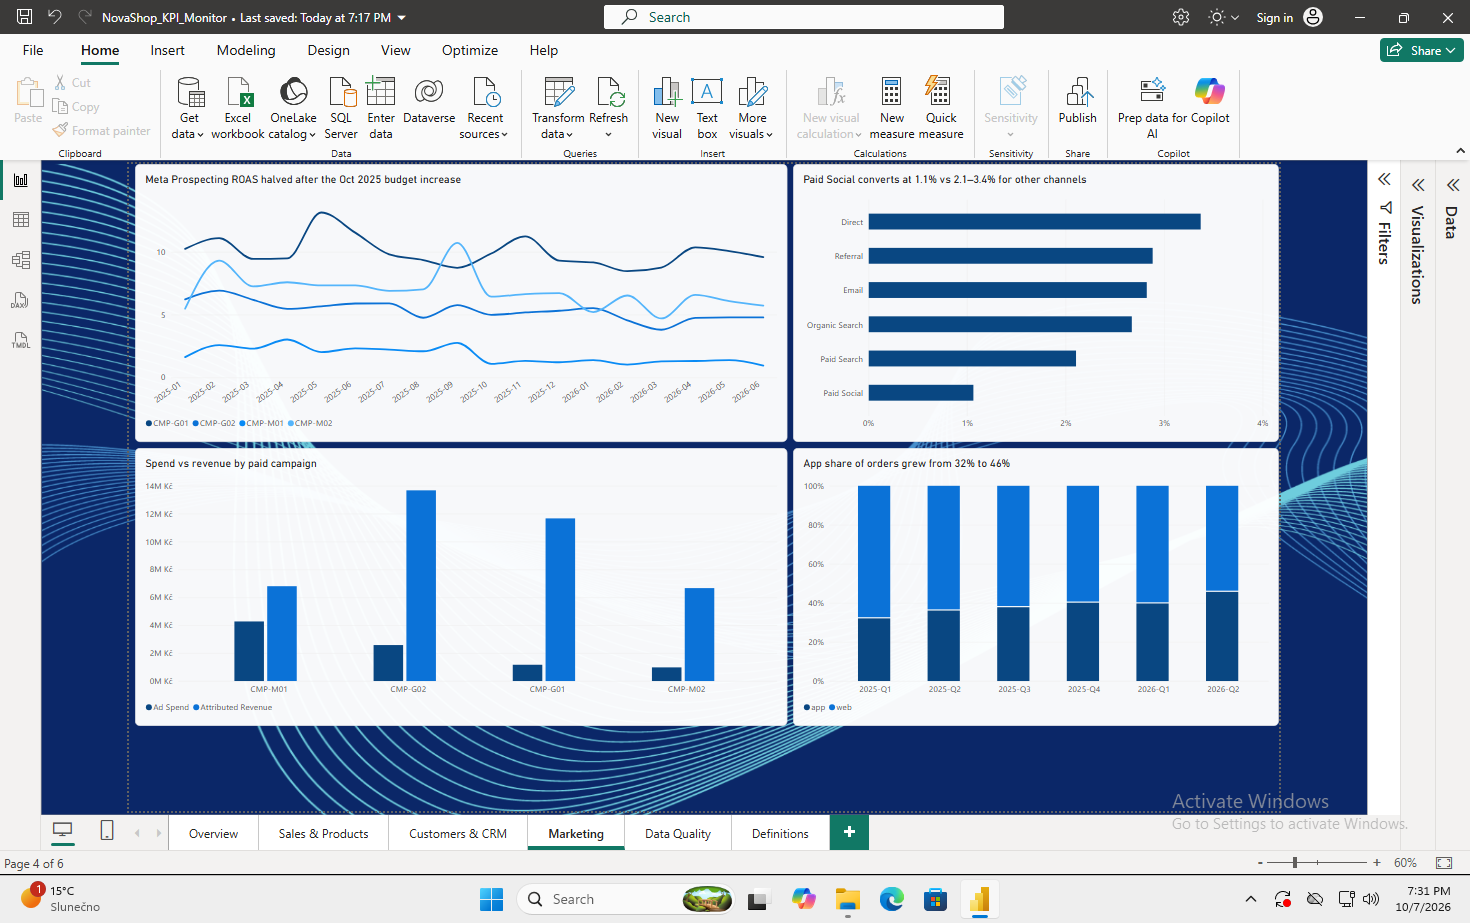

Layout of this report page (visuals, bound fields, positions):
{"tool":"powerbi","page":{"name":"Marketing","canvas":[1920,1080],"ordinal":3},"visuals":[{"type":"lineChart","title":"Meta Prospecting ROAS halved after the Oct 2025 budget increase","fields":{"Category":["dim_date.year_month"],"Series":["fct_daily_marketing.campaign_id"],"Y":["_Measures.ROAS"]},"box":[10.5,0,1088.5,464.3],"z":0},{"type":"clusteredColumnChart","title":"Spend vs revenue by paid campaign","fields":{"Category":["fct_daily_marketing.campaign_id"],"Y":["_Measures.Ad Spend","_Measures.Attributed Revenue"]},"box":[10,474,1089,464],"z":1},{"type":"clusteredBarChart","title":"Paid Social converts at 1.1% vs 2.1–3.4% for other channels","fields":{"Category":["dim_channel.channel_group"],"Y":["_Measures.Web Conversion %"]},"box":[1109,0,811,464],"z":2},{"type":"hundredPercentStackedColumnChart","title":"App share of orders grew from 32% to 46%","fields":{"Category":["dim_date.year_quarter"],"Series":["fct_order_items.platform"],"Y":["_Measures.Orders"]},"box":[1109,474,811,464],"z":3}]}

Visuals, with their boxes on the page's 1920x1080 design canvas (x1, y1, x2, y2). These are canvas units, not pixel positions in the 1470x923 screenshot, which may show the page scaled, cropped or inside an application window:
"Meta Prospecting ROAS halved after the Oct 2025 budget increase" lineChart: pyautogui.locateOnScreen(10, 0, 1099, 464)
"Spend vs revenue by paid campaign" clusteredColumnChart: pyautogui.locateOnScreen(10, 474, 1099, 938)
"Paid Social converts at 1.1% vs 2.1–3.4% for other channels" clusteredBarChart: pyautogui.locateOnScreen(1109, 0, 1920, 464)
"App share of orders grew from 32% to 46%" hundredPercentStackedColumnChart: pyautogui.locateOnScreen(1109, 474, 1920, 938)
